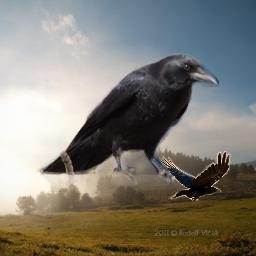Crow: (33, 52, 219, 192), (159, 151, 231, 201)
